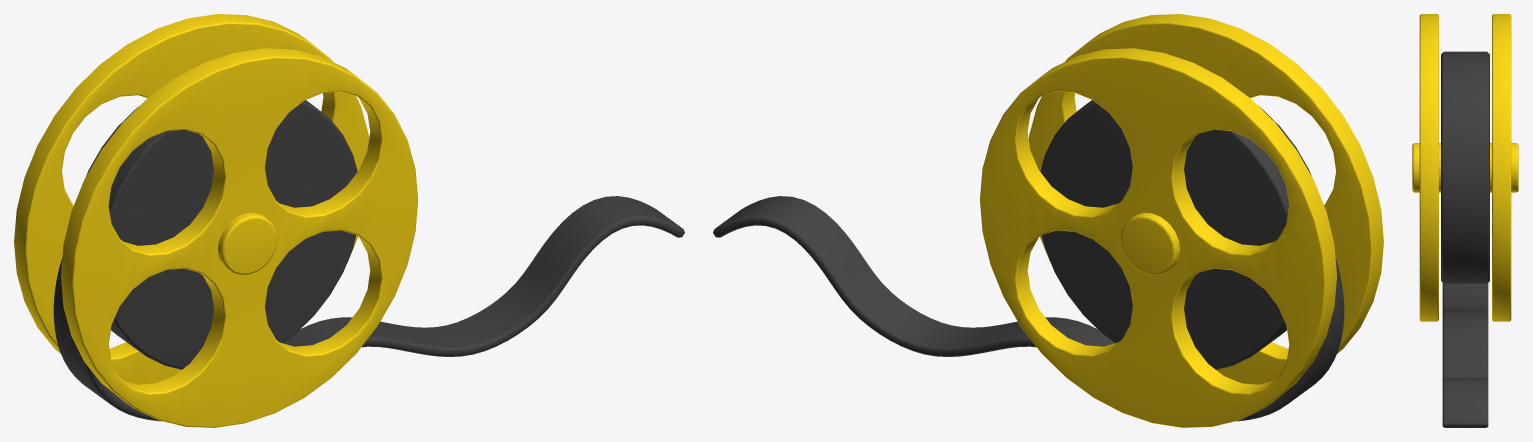
The model's file is Public_4_Roll_of_Film_1.glb.
The picture shows the model from 3 angles, left to right: view 1: azimuth 30°, elevation 25°; view 2: azimuth 150°, elevation 25°; view 3: azimuth 270°, elevation 25°; orthographic projection. The views are drawn at different scales.
Parts seen in each view (by area): view 1: Public_4_Roll_of_Film_1; view 2: Public_4_Roll_of_Film_1; view 3: Public_4_Roll_of_Film_1.
Part boxes in pixels (x1,y1,x2,y2): Public_4_Roll_of_Film_1: [14, 14, 684, 427]; Public_4_Roll_of_Film_1: [713, 14, 1383, 427]; Public_4_Roll_of_Film_1: [1412, 14, 1518, 427].
Size of the model in its own units: 4.42 by 2.45 by 0.8389.
1 material, 1 textured.
